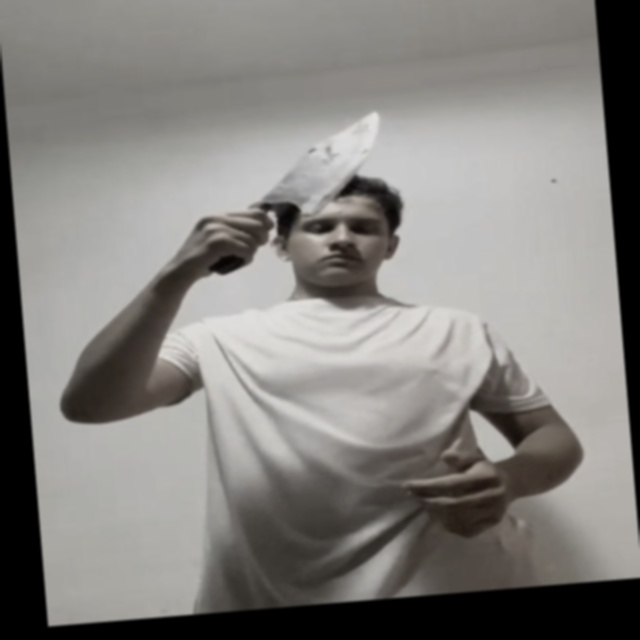Sharp-Object: (253, 110, 389, 213)
